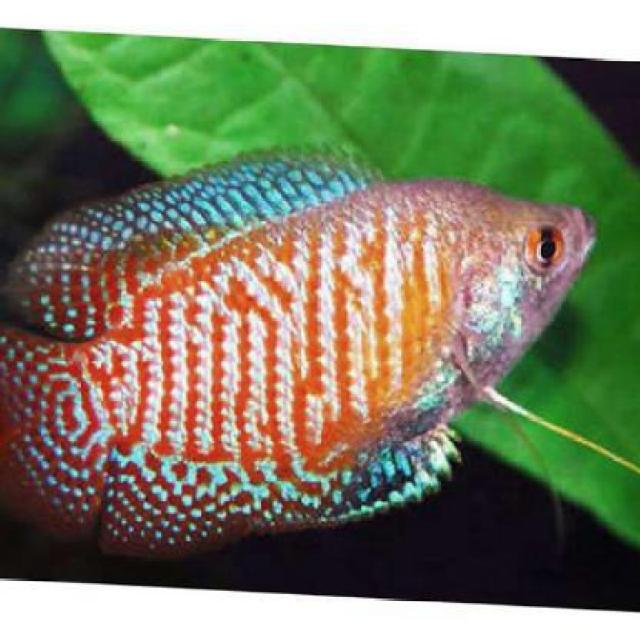Gourami: (1, 143, 598, 540)
